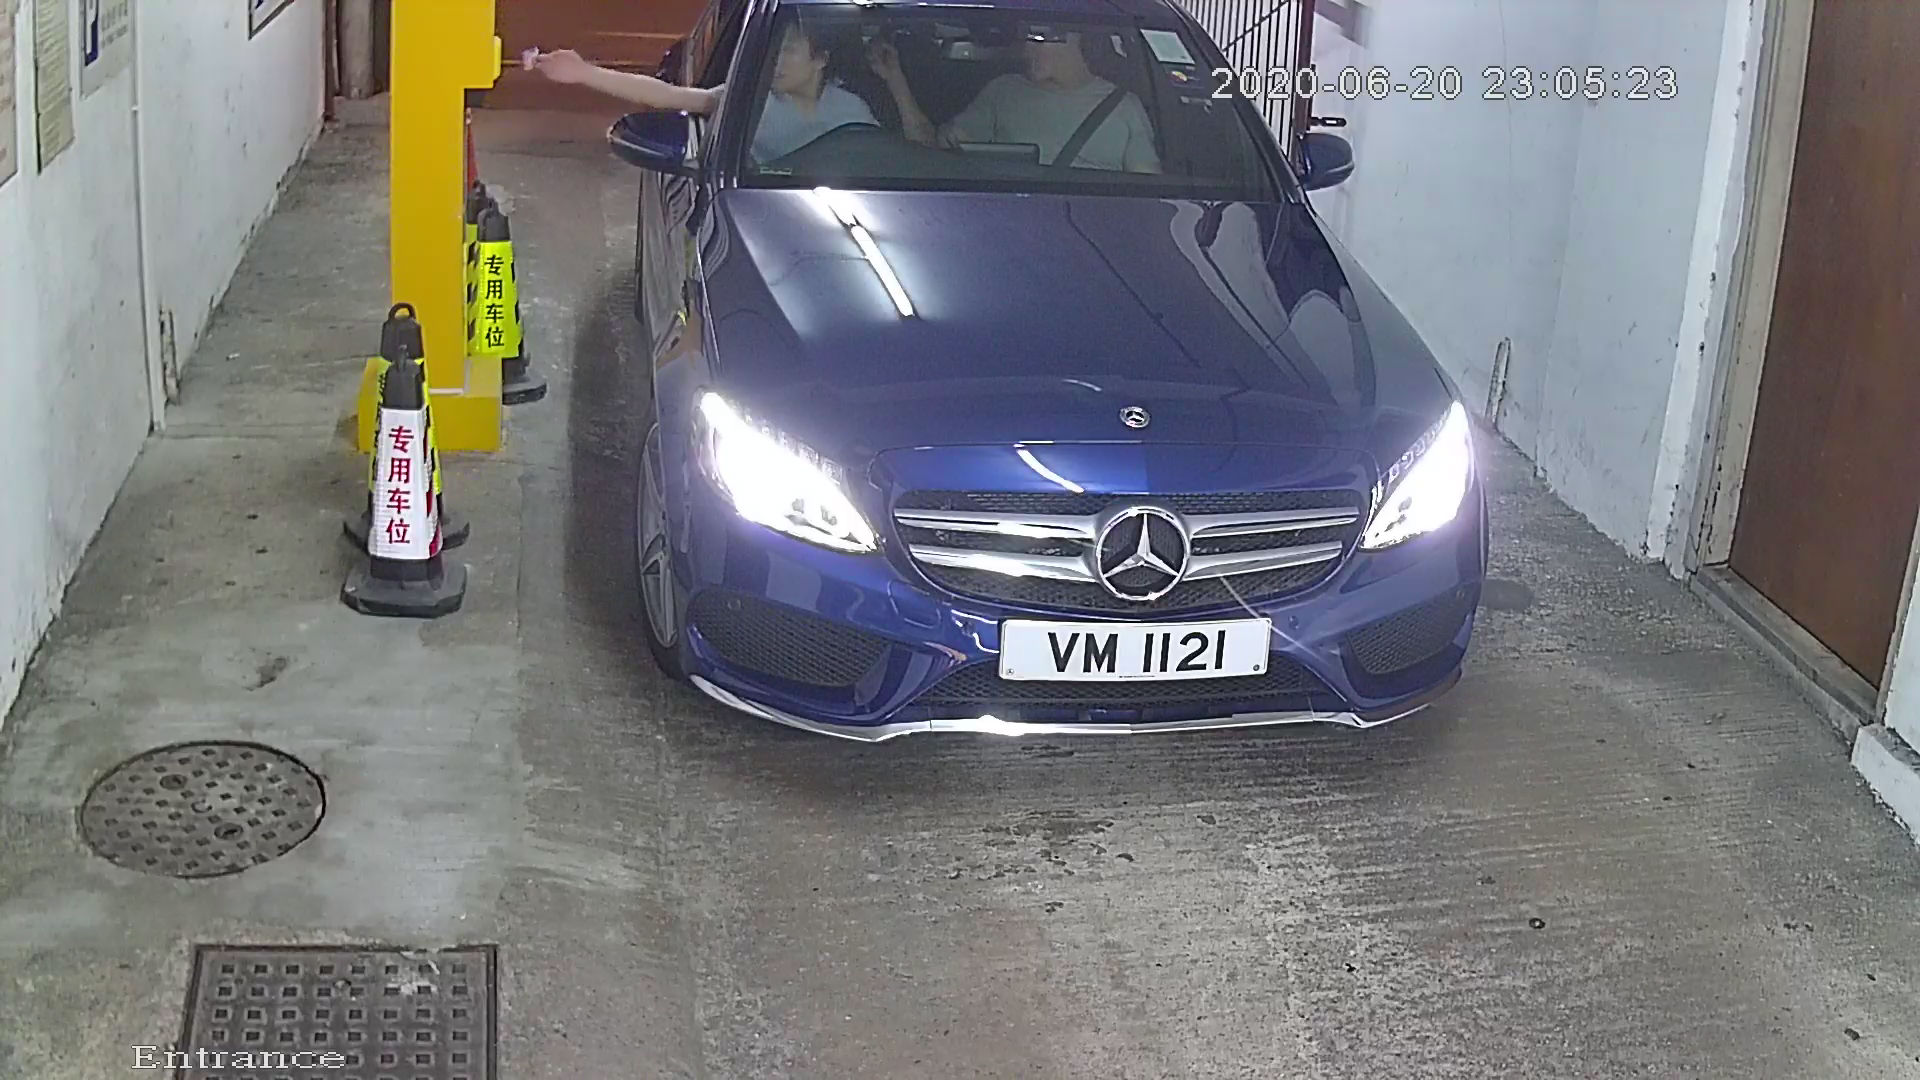privatecar: (547, 3, 1538, 862)
